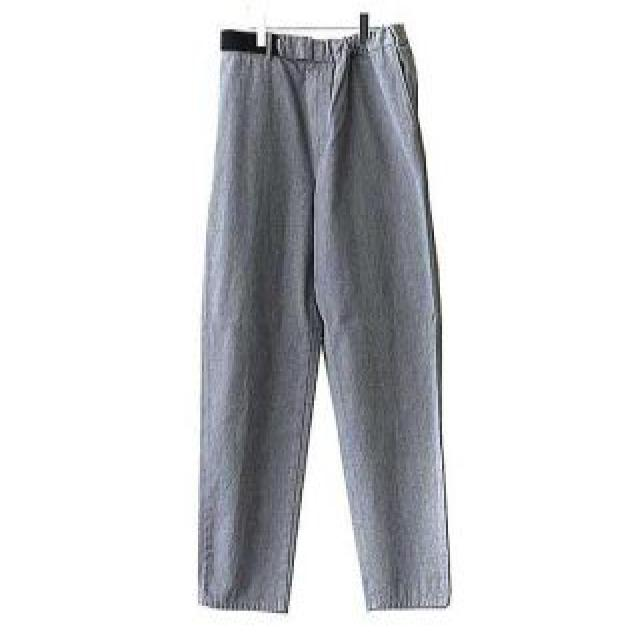long-pants: (198, 20, 452, 612)
